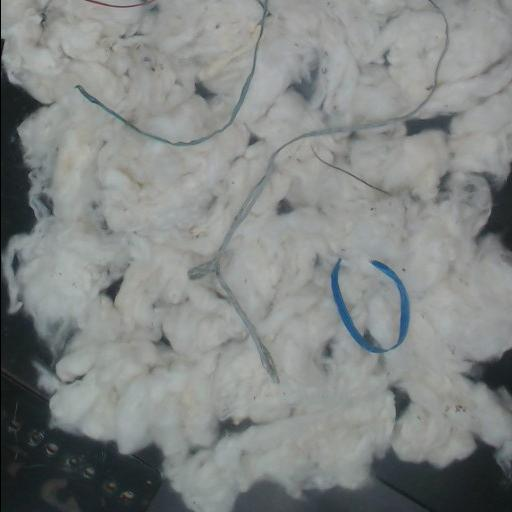cotton: (1, 0, 512, 511)
thread: (187, 0, 448, 383), (75, 0, 269, 146), (331, 259, 409, 353), (316, 155, 390, 193)
